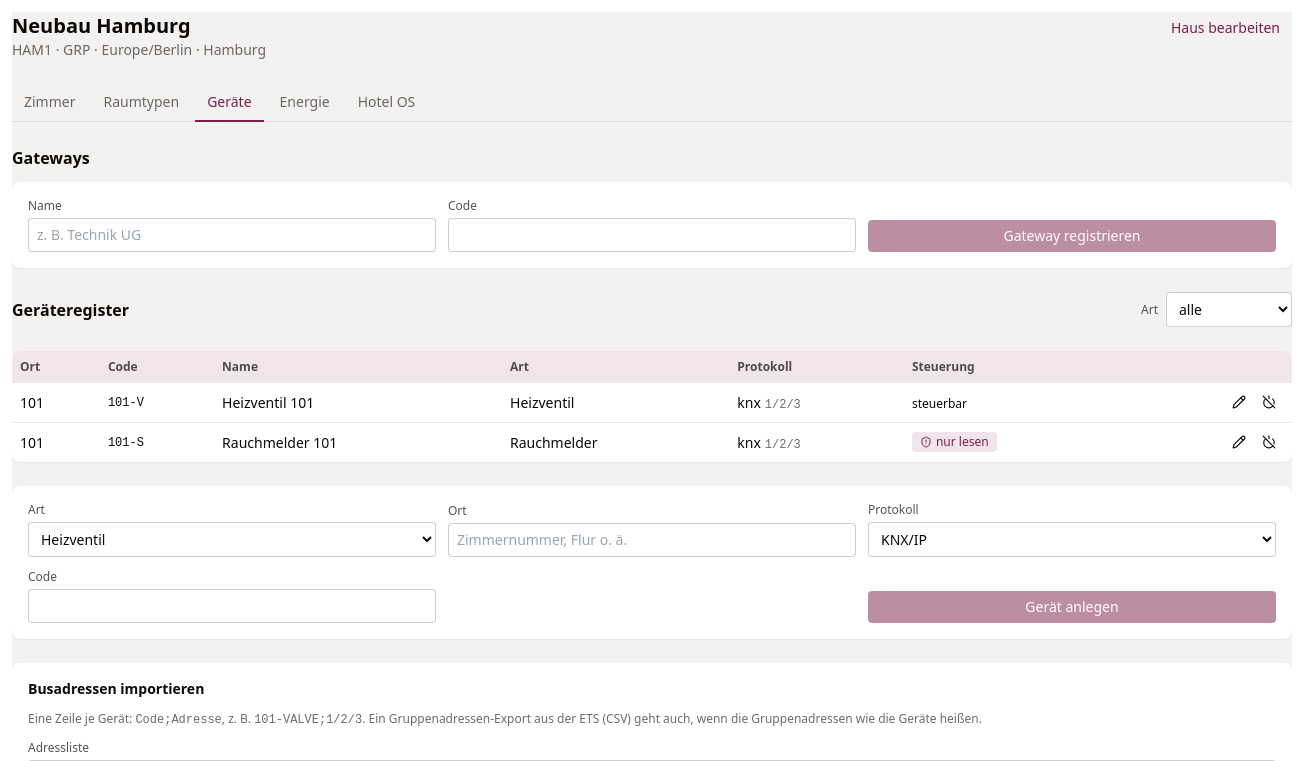
Test: PropertyPage › lets an admin edit the property
Step 1. Click the button "Haus bearbeiten" → (1225, 28), box [1159,12,1292,44]
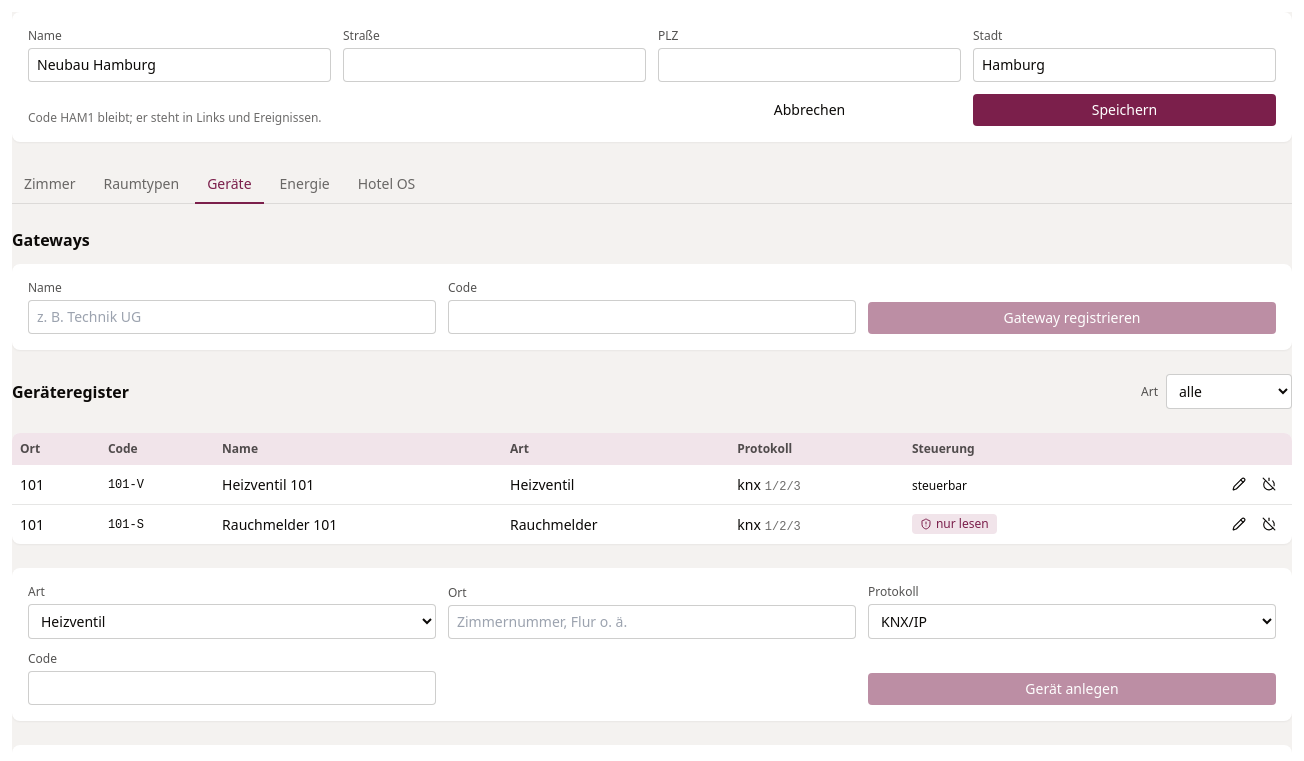
Step 2. Replace the text in the field labelled "Name" below "Straße" with "Hamburg Hafen" → (180, 65), box [28,48,331,82]
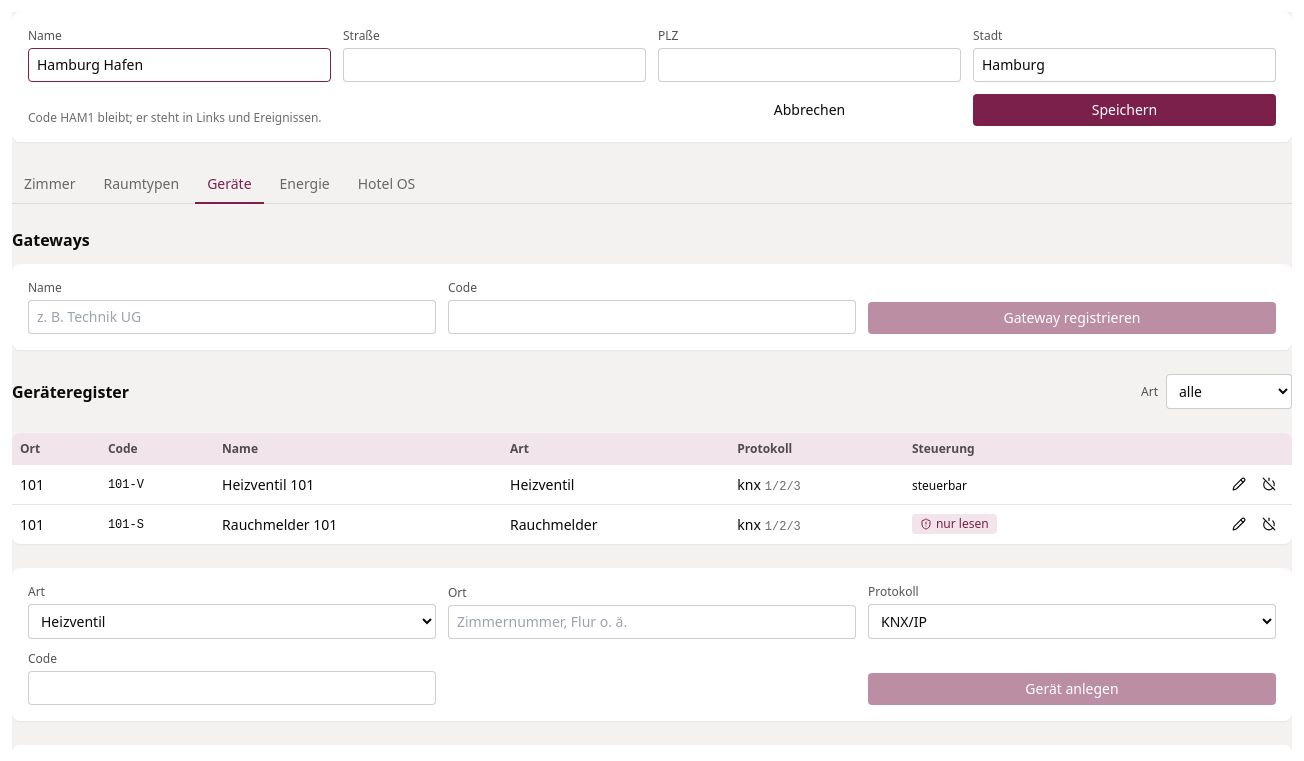
Step 3. Type "Kai 1" into the field labelled "Straße" → (494, 65), box [343,48,646,82]
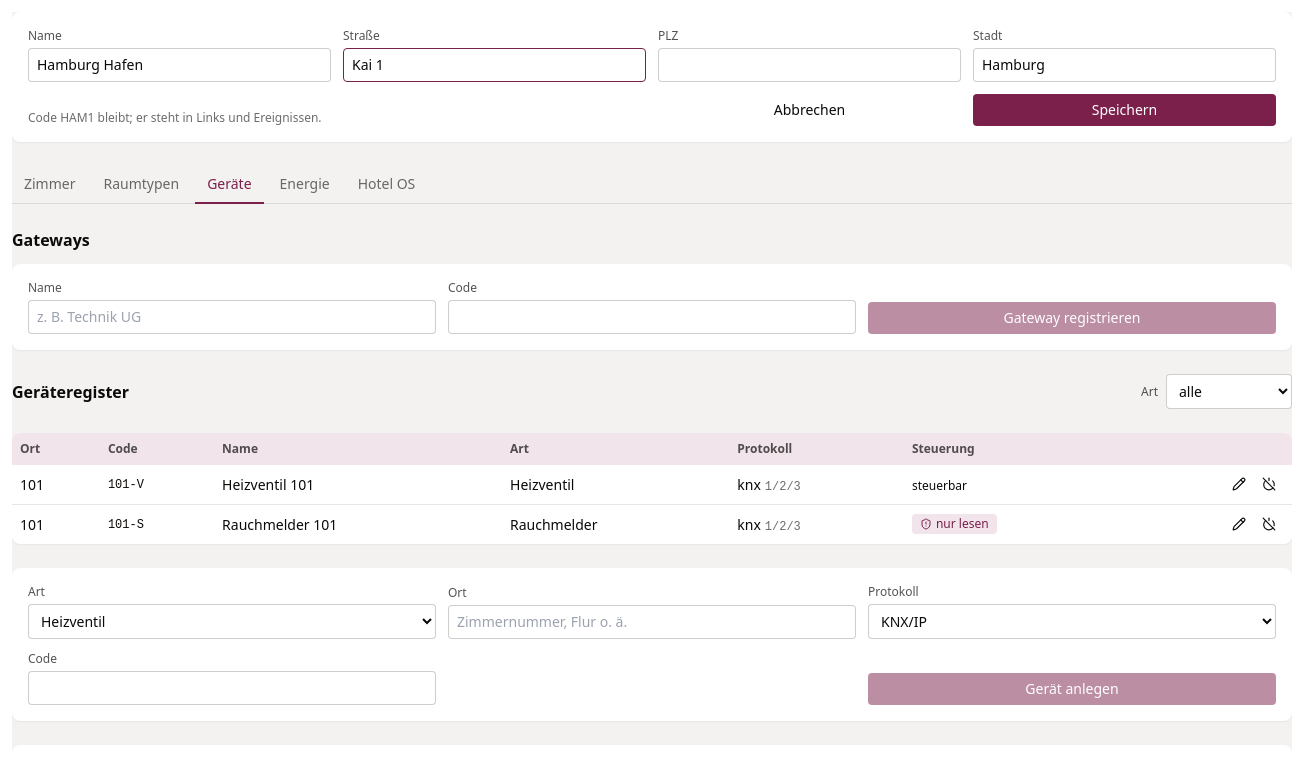
Step 4. Type "20457" into the field labelled "PLZ" → (810, 65), box [658,48,961,82]
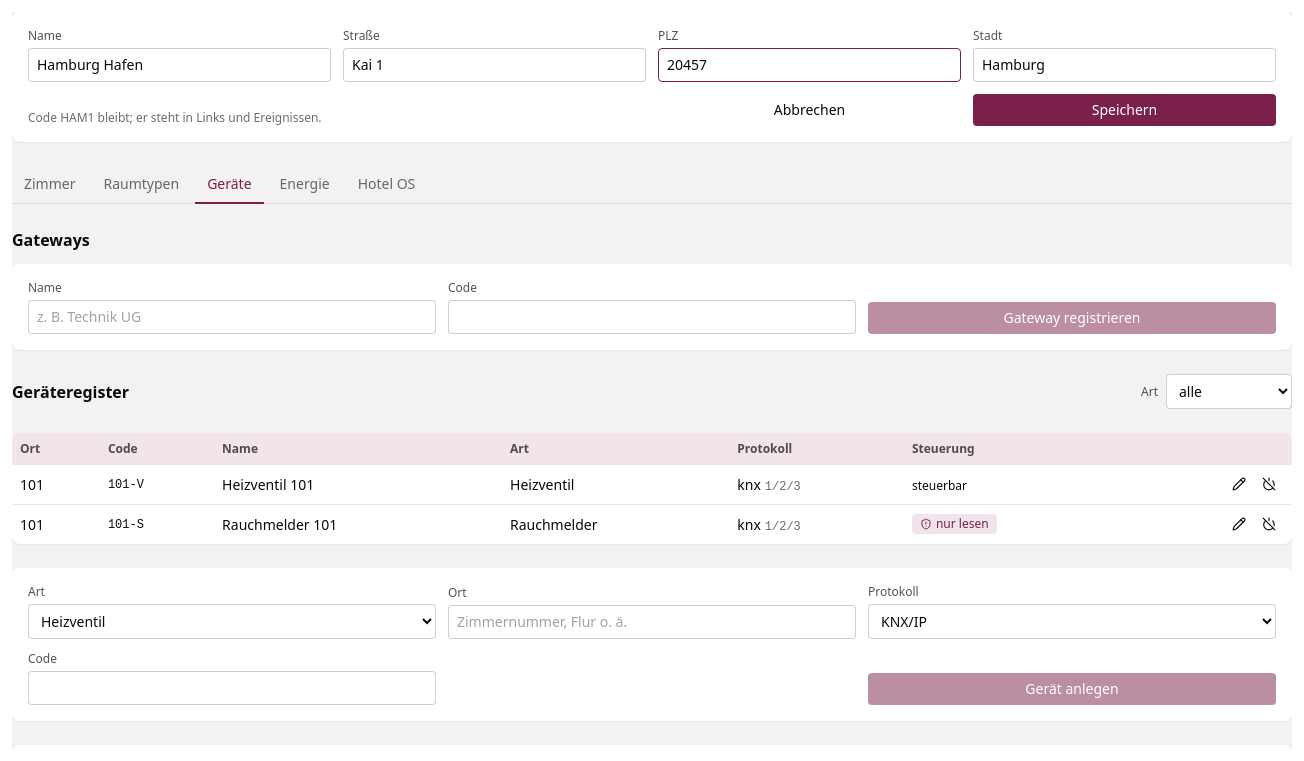
Step 5. Click the button "Speichern" → (1124, 110), box [973,94,1276,126]
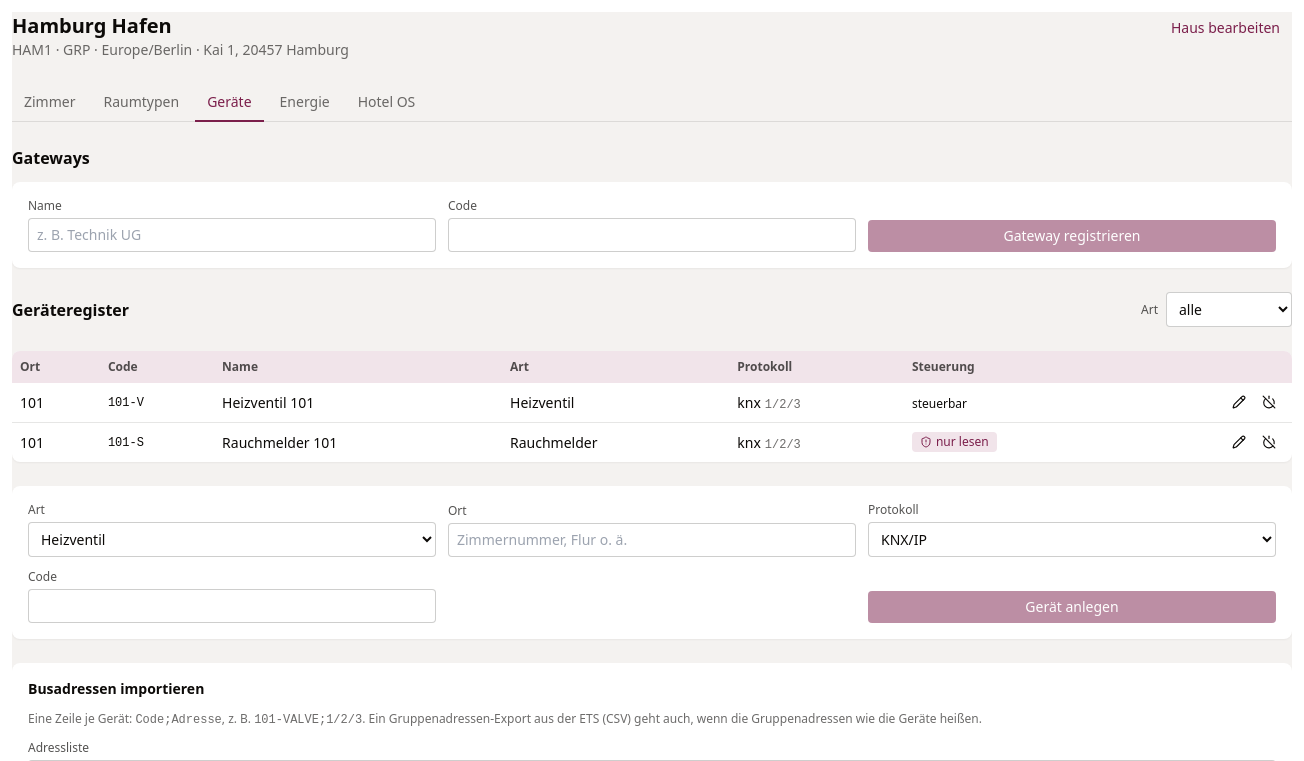
Check: the heading "Hamburg Hafen" is shown, box [12,12,172,39]
